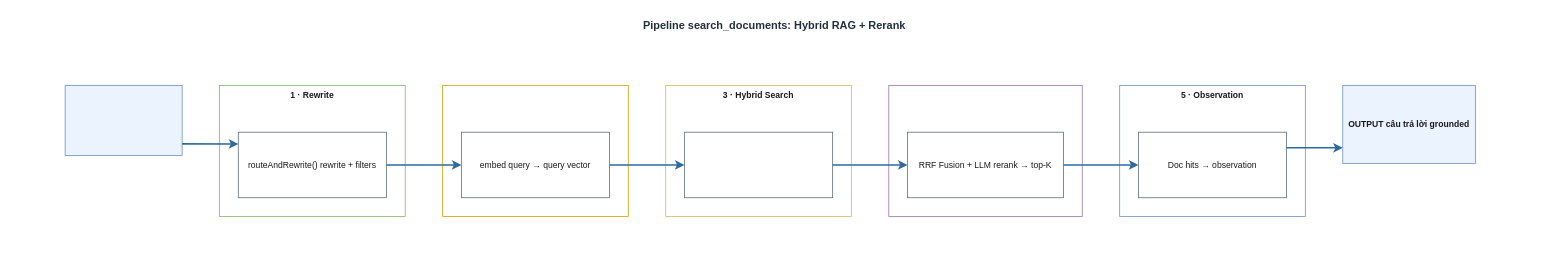
Image size: 1548x257. Some labels were removed from this diagram. The shapes that lost their labels are listed below. From the top down, each one's box as (x1, y1, x2, y2) in pixels, then its label:
(64, 85, 182, 156): INPUT question
(442, 85, 628, 216): 2 · Embed
(684, 131, 833, 198): Dense (cosine) + Sparse (BM25)
(888, 85, 1082, 216): 4 · Rerank
